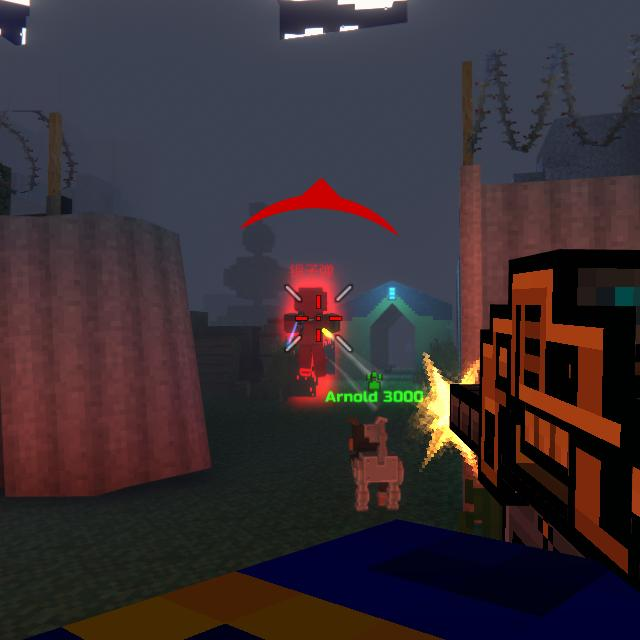Enemy: (283, 288, 340, 377)
